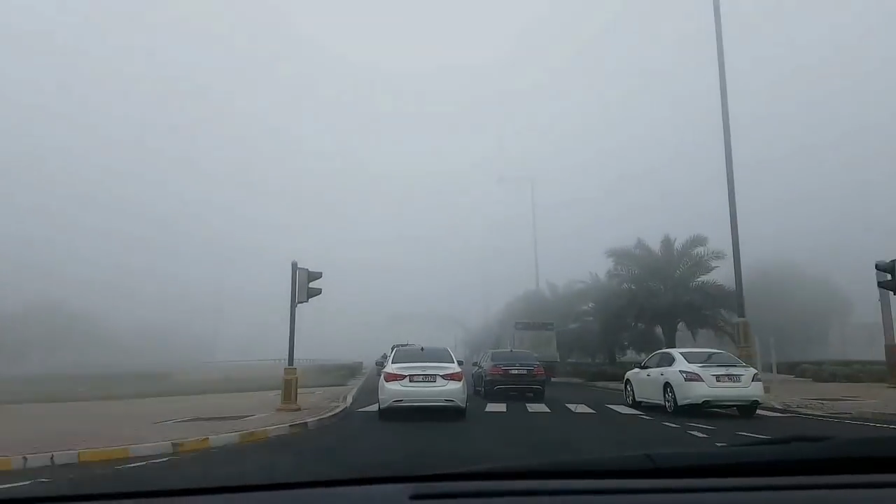bus: (504, 314, 562, 376)
car: (623, 347, 766, 420), (373, 345, 469, 420), (469, 346, 549, 403)
